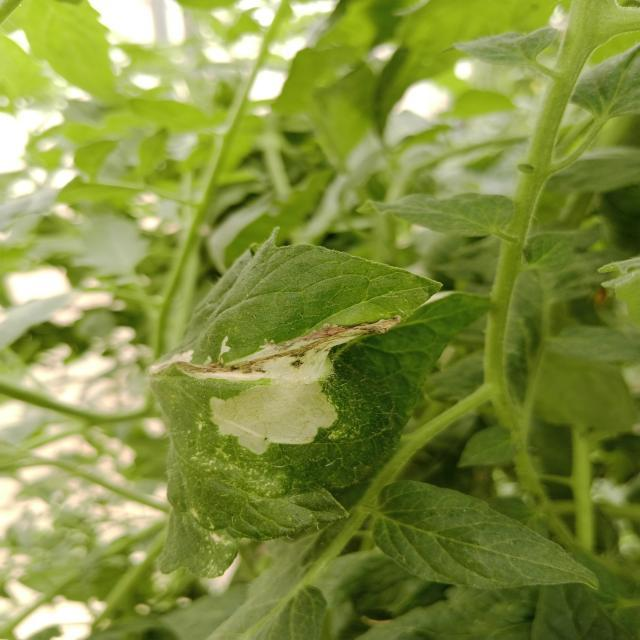Tuta absoluta: (177, 310, 423, 470)
